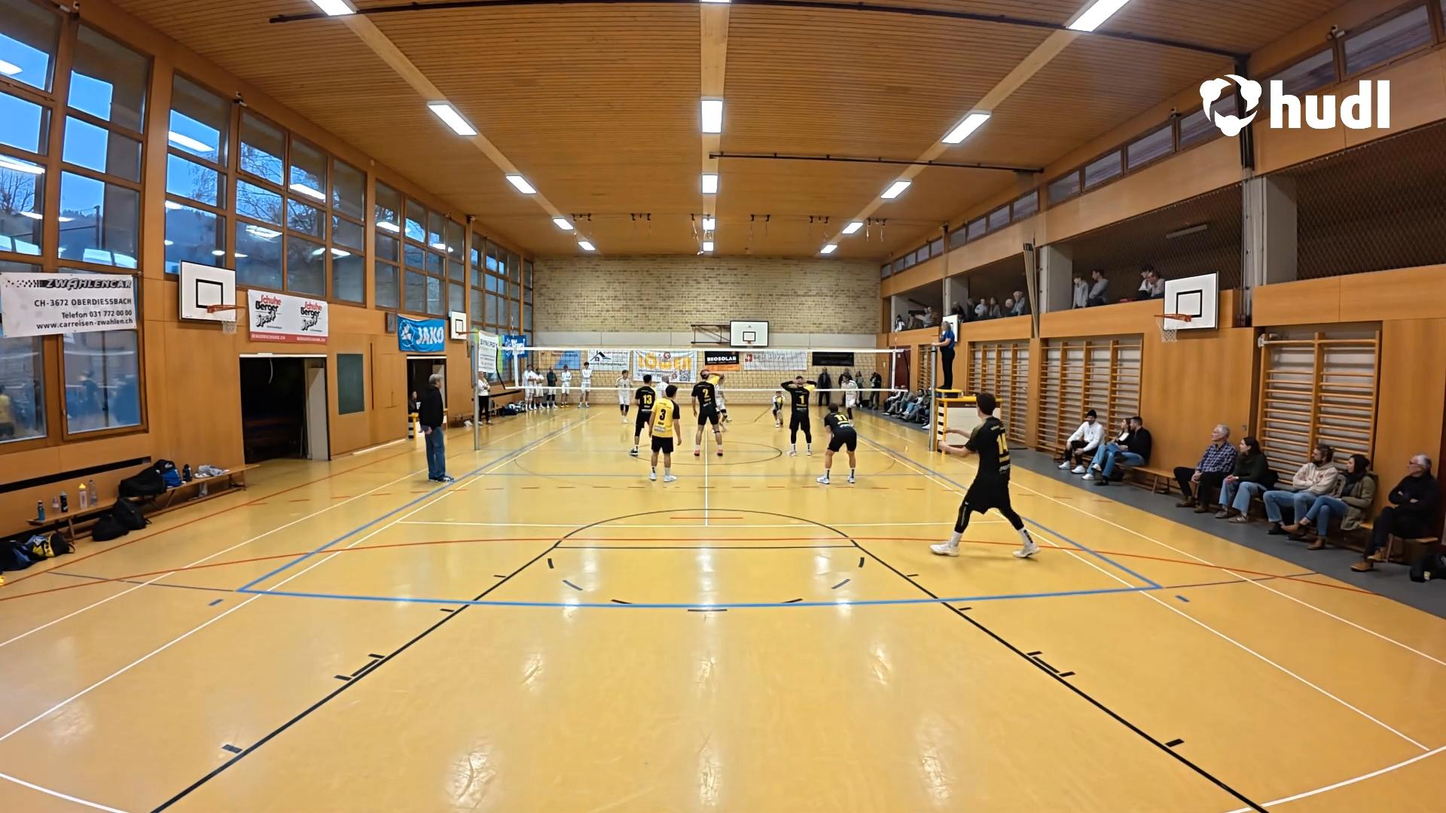Player: (926, 394, 1037, 558), (818, 399, 861, 485), (646, 381, 682, 483), (775, 374, 816, 456), (687, 370, 725, 458), (629, 374, 659, 457), (840, 374, 863, 423), (712, 373, 733, 425), (613, 370, 633, 421)
Receive: (767, 379, 792, 449)
ball: (772, 393, 785, 410)
